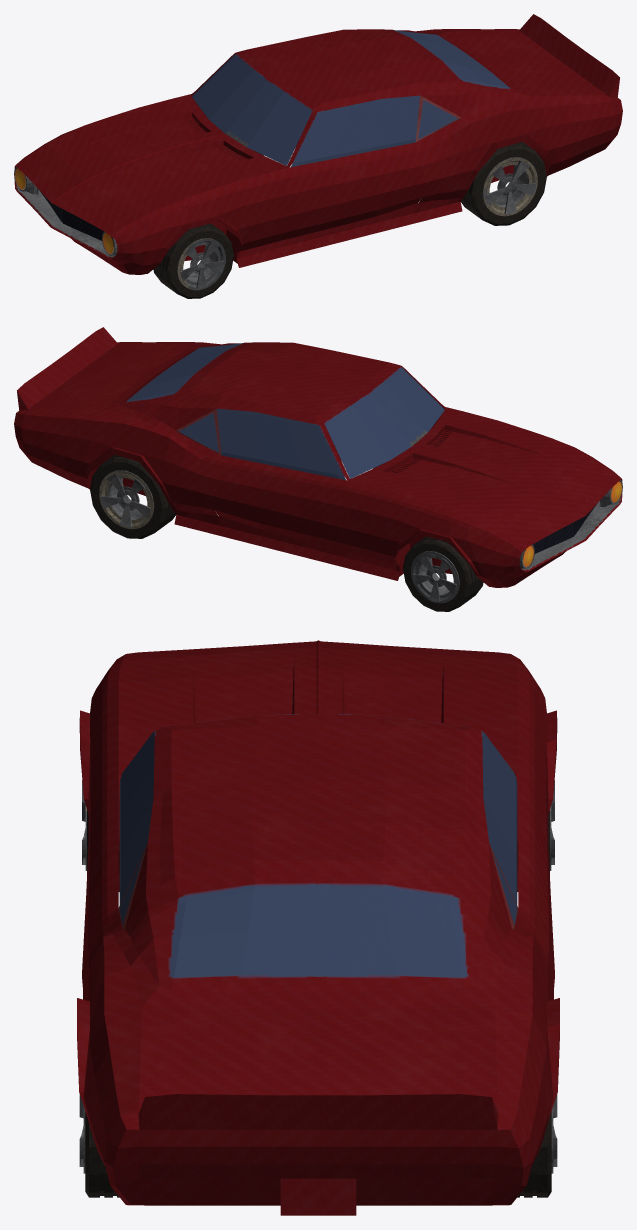
Rendered from Car.fbx.
3 views of the same model, one above another, from view 1: azimuth 30°, elevation 25°; view 2: azimuth 150°, elevation 25°; view 3: azimuth 270°, elevation 25° (orthographic). The views are drawn at different scales.
Parts seen in each view (by area): view 1: Car; view 2: Car; view 3: Car.
Part boxes in pixels (<box>): Car: <box>14,14,622,298</box>; Car: <box>14,327,622,611</box>; Car: <box>77,640,559,1215</box>.
Bounding box in the file's own units: 436 × 119 × 173.
Materials: 1 (1 with a texture image).
